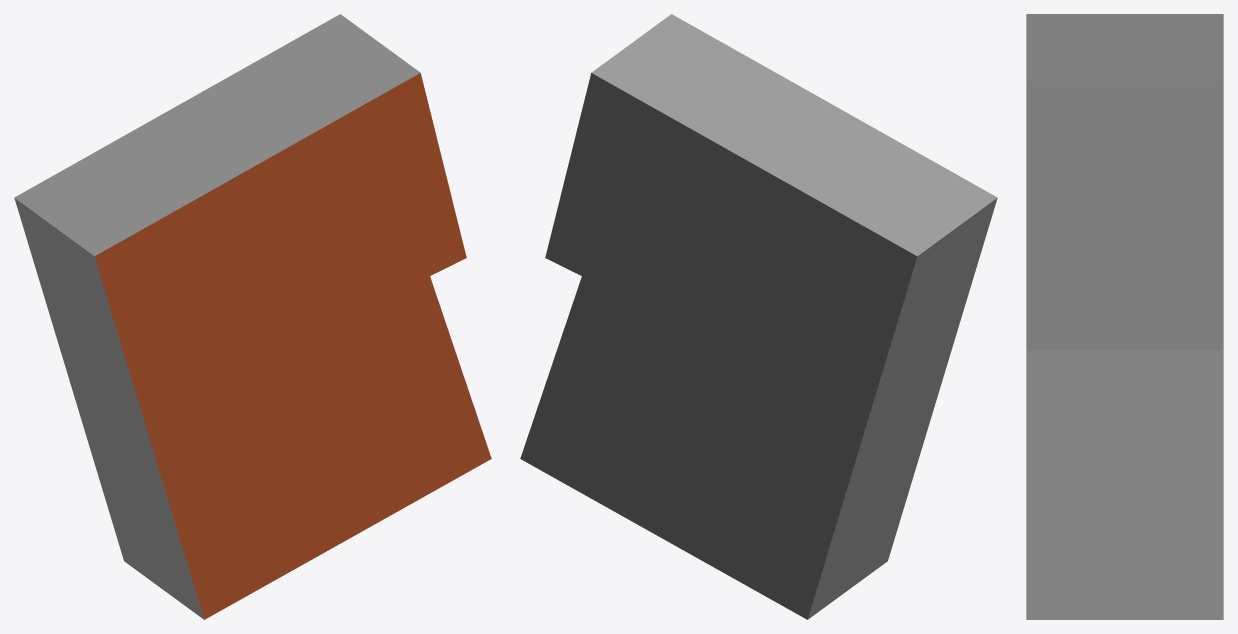
File: construction_3689_assumed_A_Casa_h6m.obj
3 views of the same model, side by side, from view 1: azimuth 30°, elevation 25°; view 2: azimuth 150°, elevation 25°; view 3: azimuth 270°, elevation 25° (orthographic). The views are drawn at different scales.
Parts seen in each view (by area): view 1: construction_3689_assumed_A_Casa; view 2: construction_3689_assumed_A_Casa; view 3: construction_3689_assumed_A_Casa.
Part boxes in pixels (box(x1,y1,x2,y2)): construction_3689_assumed_A_Casa: box(14, 14, 491, 619); construction_3689_assumed_A_Casa: box(520, 14, 997, 619); construction_3689_assumed_A_Casa: box(1026, 14, 1223, 619).
Size of the model in its own units: 17.13 by 20.37 by 6.
